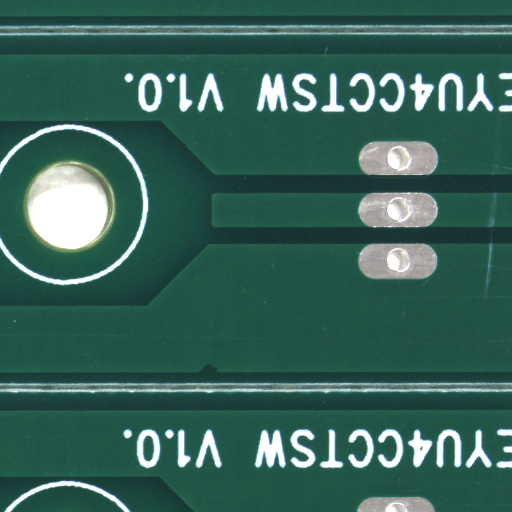Mouse_bite: (207, 368, 225, 379)
